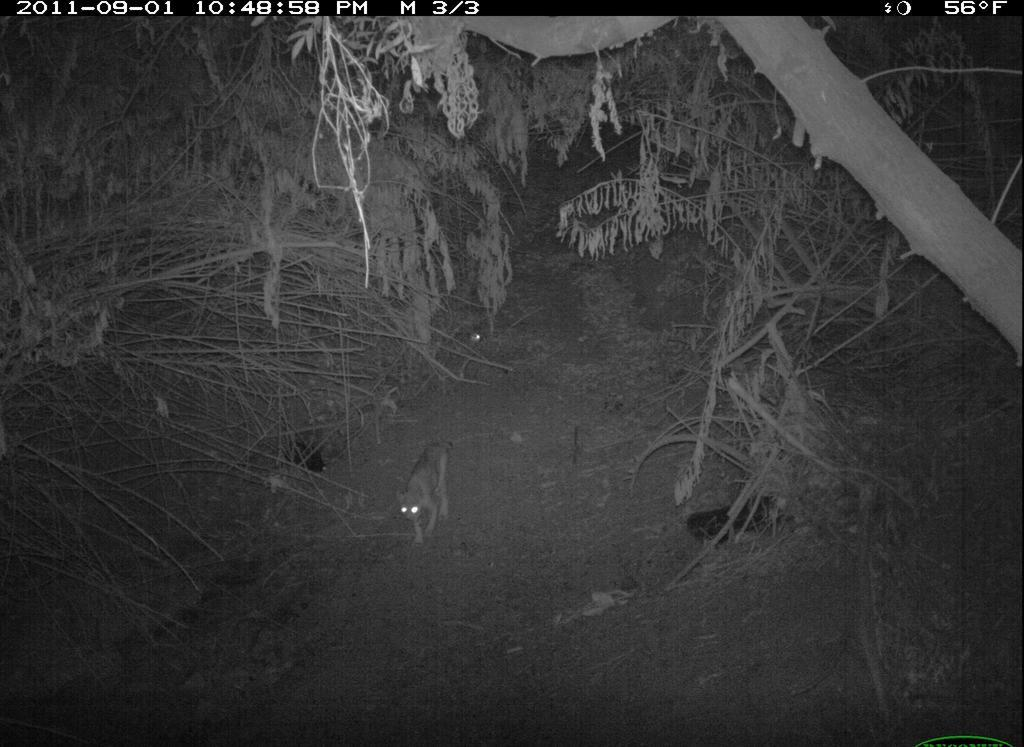bobcat: (391, 433, 463, 555)
